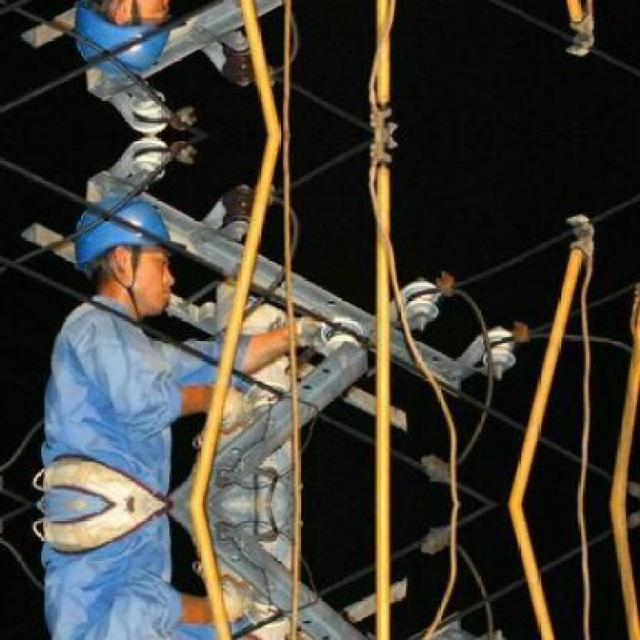hard-hat: (72, 193, 171, 274)
person: (35, 189, 316, 639)
ppe-suit: (33, 293, 247, 639)
